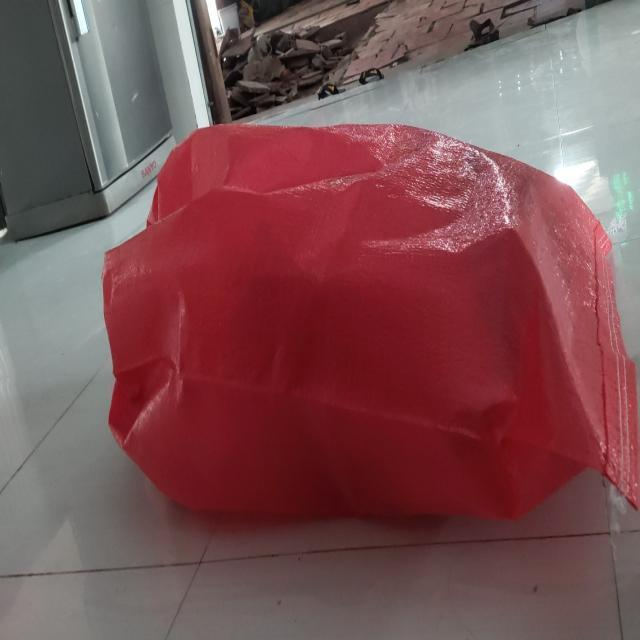gunny_bag: (102, 124, 640, 519)
